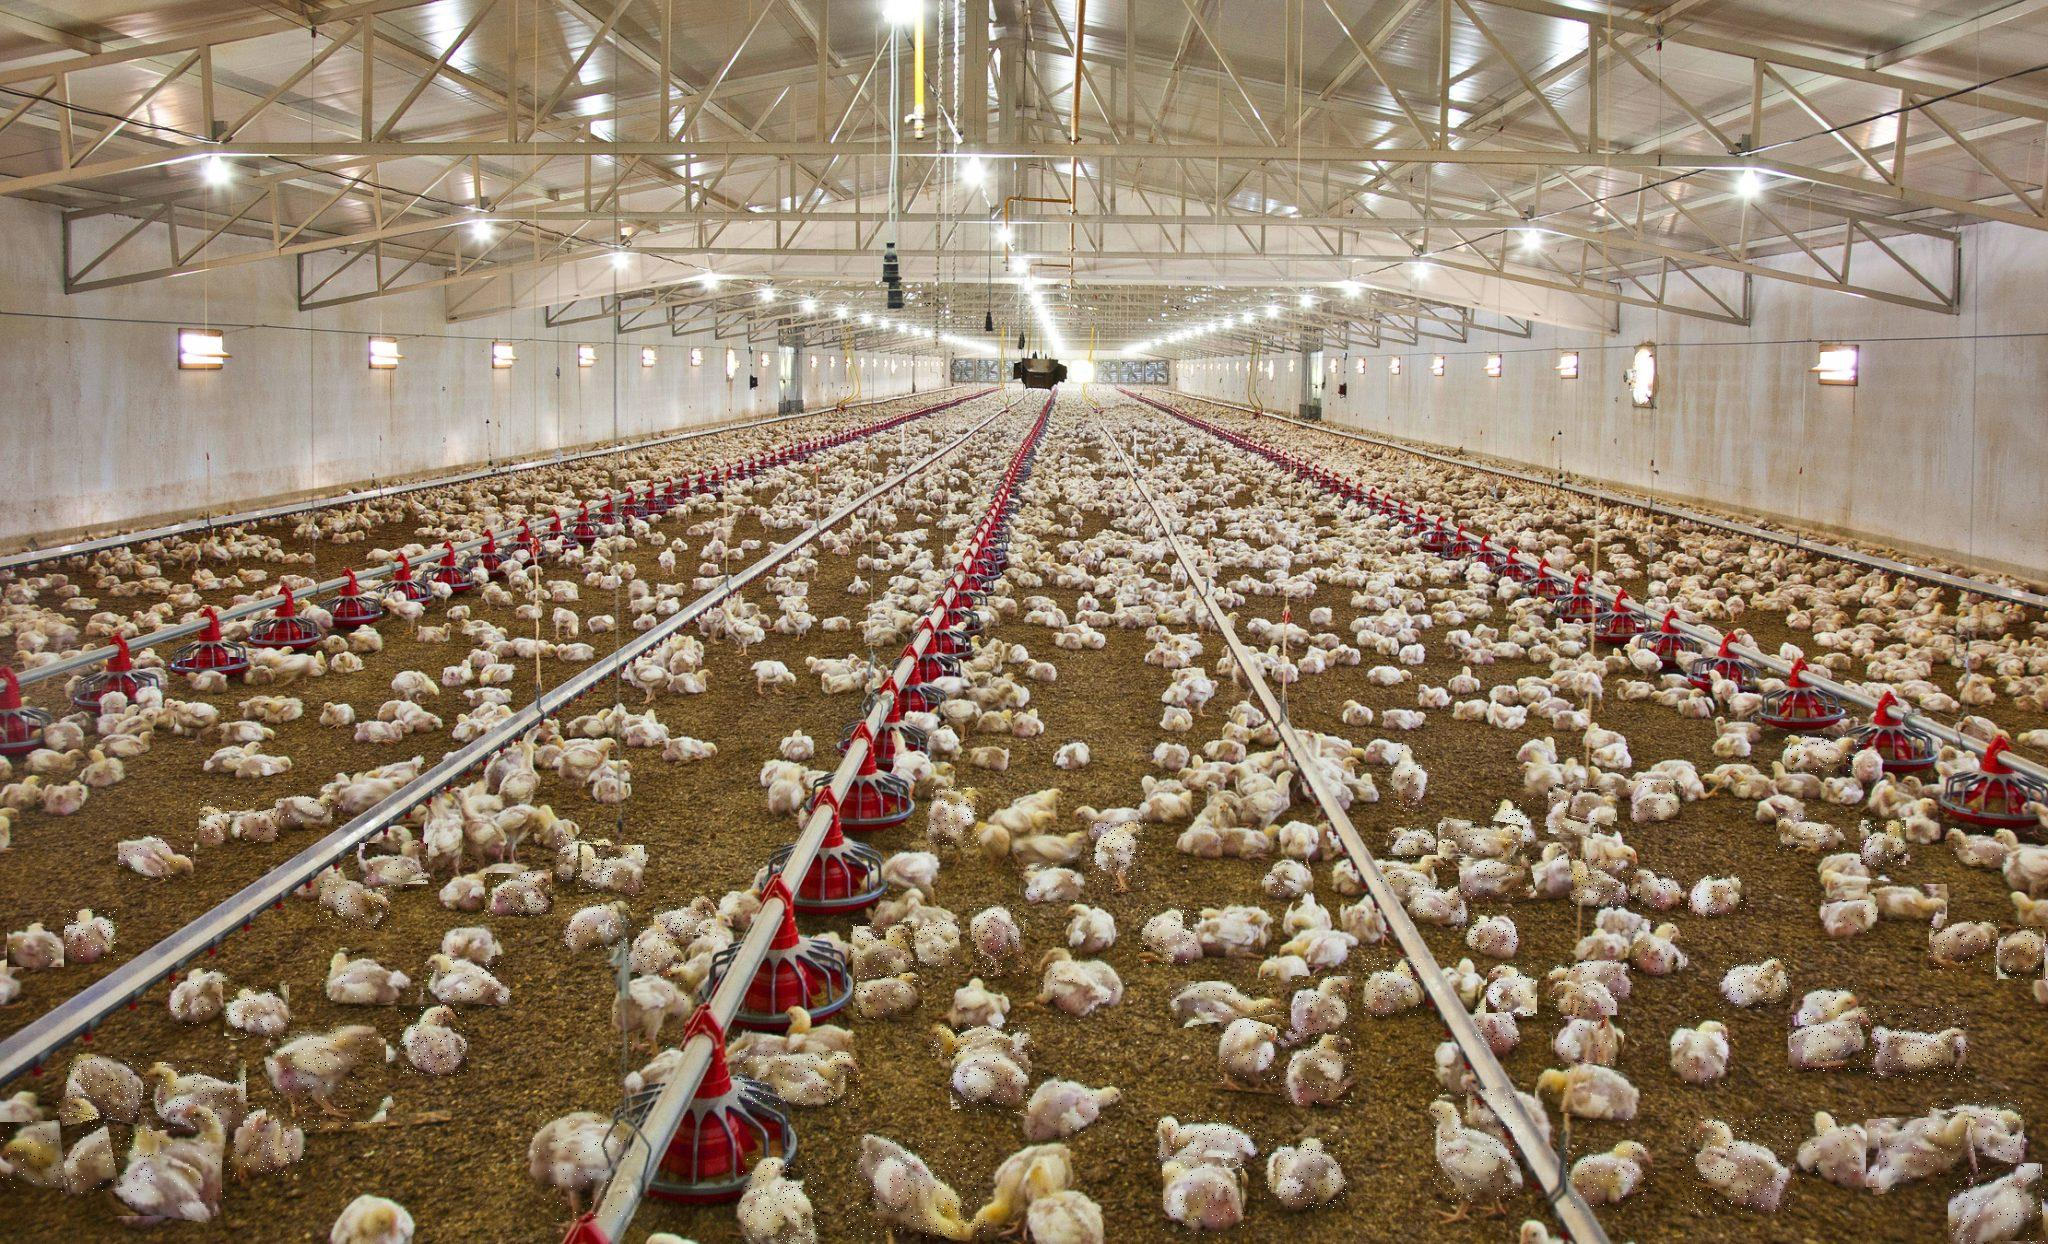chicken: (847, 1134, 986, 1238), (108, 1101, 227, 1221), (266, 1024, 391, 1128), (1681, 1115, 1796, 1215), (532, 1108, 632, 1222), (1432, 1089, 1520, 1203), (54, 1098, 152, 1193), (1865, 1115, 1978, 1191), (1867, 1005, 1969, 1083), (1949, 1164, 2045, 1244), (142, 1061, 247, 1128), (742, 1158, 824, 1244), (1037, 950, 1129, 1024), (1023, 1073, 1126, 1139), (739, 1051, 860, 1106), (1925, 1093, 2028, 1159), (1536, 1063, 1647, 1123), (1799, 1106, 1880, 1188), (1567, 1140, 1657, 1212), (1163, 1156, 1243, 1237), (320, 941, 414, 1010), (1262, 1134, 1347, 1209), (613, 972, 690, 1051), (1277, 1027, 1356, 1104), (64, 1055, 154, 1123), (1169, 979, 1284, 1027), (230, 1106, 307, 1178), (1788, 1008, 1874, 1073), (1157, 1114, 1255, 1168), (1220, 1007, 1287, 1083), (399, 1004, 468, 1077), (1666, 1017, 1736, 1086), (951, 1054, 1031, 1114), (424, 954, 513, 1004), (1501, 839, 1573, 900), (971, 904, 1030, 978), (1717, 951, 1792, 1008), (0, 1121, 63, 1188), (1088, 821, 1145, 894), (1138, 904, 1201, 967), (319, 880, 394, 931), (578, 843, 648, 897), (930, 1024, 1034, 1061), (1292, 976, 1353, 1038), (1439, 821, 1527, 863), (224, 983, 293, 1038), (1930, 921, 2000, 973), (170, 969, 233, 1027), (853, 923, 920, 978), (1554, 1016, 1627, 1065), (1867, 881, 1949, 925), (1363, 959, 1422, 1019), (565, 902, 635, 951), (118, 834, 195, 880), (854, 972, 925, 1020), (358, 842, 430, 888), (1631, 921, 1691, 975), (927, 787, 982, 847), (1020, 859, 1088, 904), (484, 871, 553, 916), (1460, 856, 1533, 899), (897, 921, 963, 967), (1388, 743, 1432, 812), (1551, 962, 1633, 998), (1567, 858, 1625, 907), (197, 796, 257, 844), (1406, 885, 1472, 929), (276, 784, 342, 828), (1476, 986, 1521, 1049), (1546, 786, 1602, 837), (64, 910, 120, 962), (1788, 735, 1859, 774), (1998, 925, 2048, 981), (654, 897, 718, 940), (1777, 812, 1846, 852), (1486, 964, 1539, 1016), (626, 925, 683, 972), (1793, 985, 1858, 1026), (1688, 874, 1748, 918), (557, 836, 613, 883), (1377, 856, 1447, 893), (1548, 982, 1616, 1019), (1861, 818, 1910, 868), (1630, 866, 1684, 910), (1820, 900, 1877, 941), (7, 926, 64, 967), (1466, 909, 1520, 951), (1946, 828, 2006, 866), (1630, 780, 1681, 821), (443, 921, 497, 959), (1264, 861, 1314, 902), (1567, 787, 1619, 824), (1494, 798, 1535, 842), (228, 812, 281, 846), (1388, 824, 1437, 855), (1053, 742, 1097, 770)
